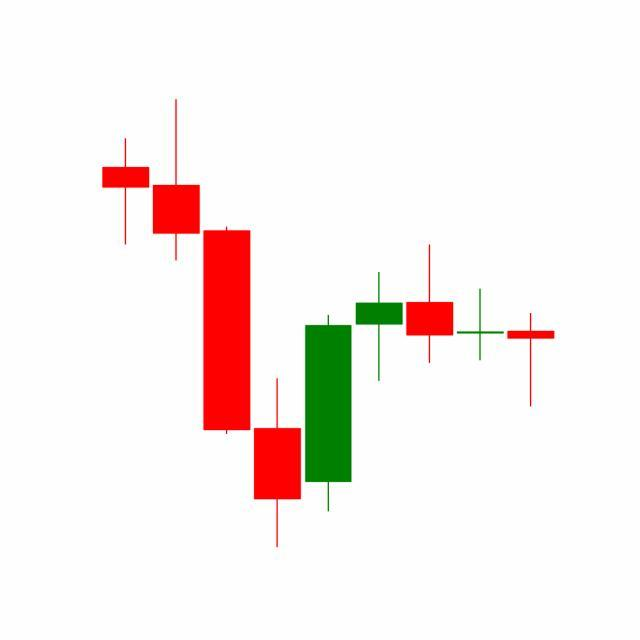Hikkake Pattern: (302, 242, 555, 516)
